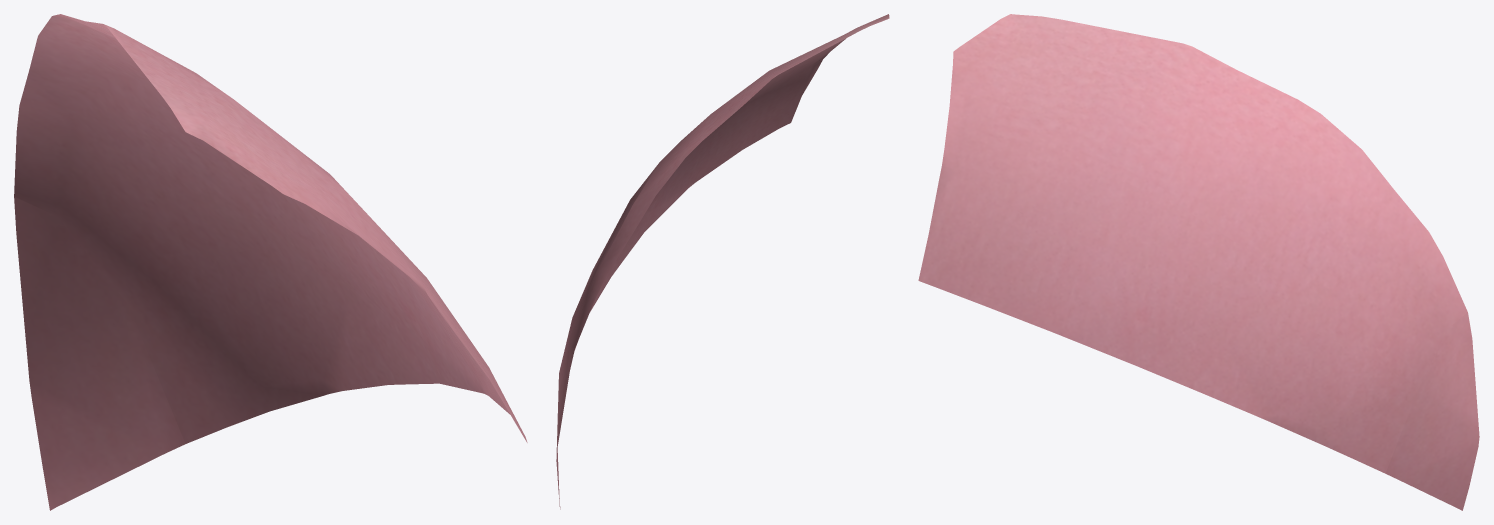
The model's file is PiggyFragment06.glb.
The picture shows the model from 3 angles, left to right: view 1: azimuth 30°, elevation 25°; view 2: azimuth 150°, elevation 25°; view 3: azimuth 270°, elevation 25°; orthographic projection. The views are drawn at different scales.
Parts seen in each view (by area): view 1: Piece; view 2: Piece; view 3: Piece.
Boxes of the visible parts, box(x1,y1,x2,y2) form: Piece: box(14, 14, 527, 510); Piece: box(556, 14, 889, 509); Piece: box(918, 14, 1479, 510).
Size of the model in its own units: 0.2168 by 0.4072 by 0.485.
1 material, 1 textured.
